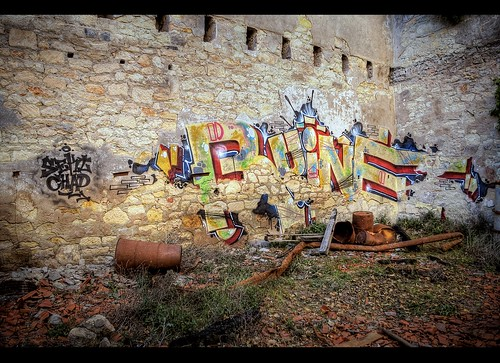graffiti: (134, 99, 446, 212), (34, 149, 109, 206)
trash: (117, 206, 500, 345)
